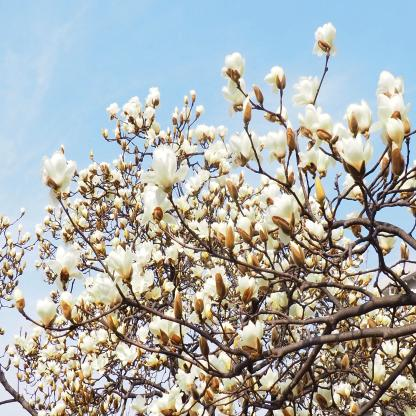Mokuren: (0, 24, 416, 416)
